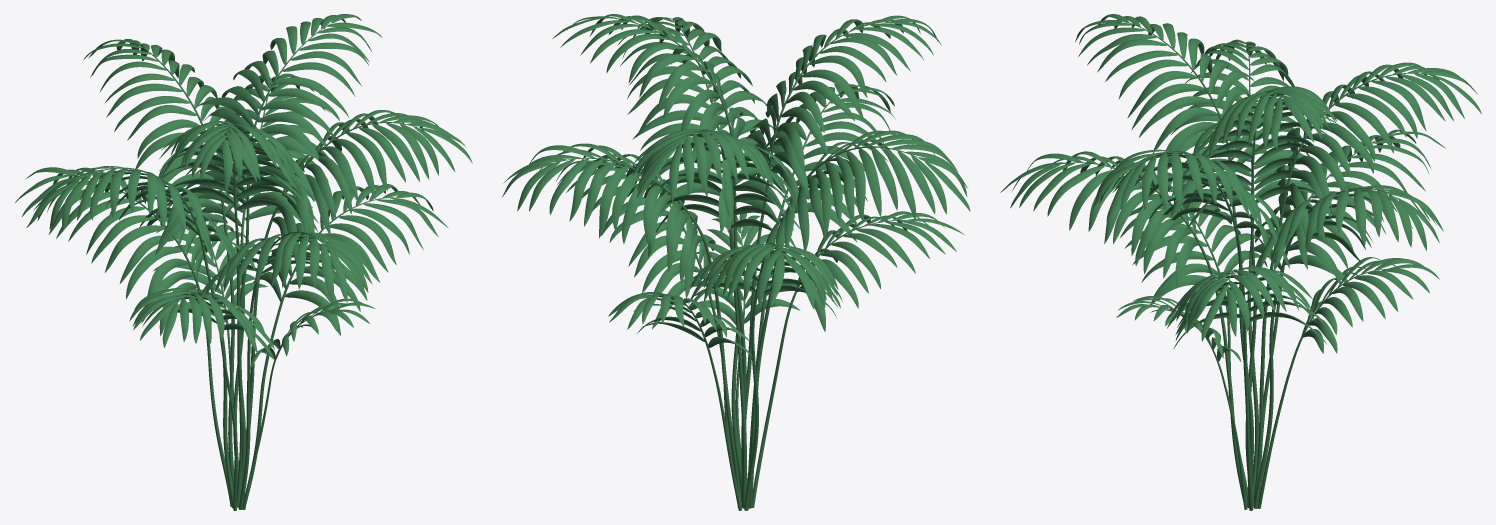
Rendered from tropical_small06_fern.fbx.
3 renders of one model, left to right at view 1: azimuth 30°, elevation 25°; view 2: azimuth 150°, elevation 25°; view 3: azimuth 270°, elevation 25°, orthographic. The views are drawn at different scales.
Visible parts, largest first — view 1: tropical_small06_fern; view 2: tropical_small06_fern; view 3: tropical_small06_fern.
Boxes of the visible parts, box(x1,y1,x2,y2) form: tropical_small06_fern: box(15, 14, 472, 510); tropical_small06_fern: box(502, 14, 970, 510); tropical_small06_fern: box(1000, 14, 1481, 510).
Size of the model in its own units: 1.04 by 1.12 by 1.06.
